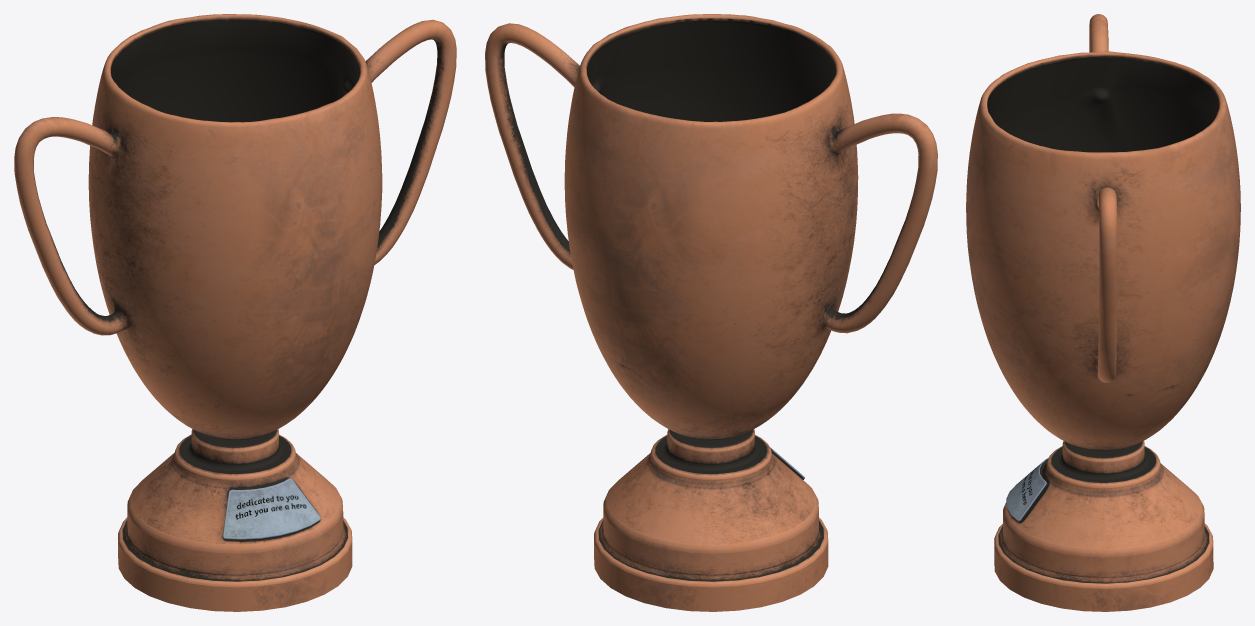
The model's file is bronce.glb.
3 renders of one model, left to right at view 1: azimuth 30°, elevation 25°; view 2: azimuth 150°, elevation 25°; view 3: azimuth 270°, elevation 25°, orthographic. The views are drawn at different scales.
Visible parts, largest first — view 1: Copa, Base, Placa; view 2: Copa, Base; view 3: Copa, Base, Placa.
Part boxes in pixels (<box>): Copa: <box>14,14,456,439</box>; Base: <box>118,429,352,611</box>; Placa: <box>223,478,320,540</box>; Copa: <box>485,14,937,440</box>; Base: <box>594,429,828,611</box>; Copa: <box>966,14,1240,451</box>; Base: <box>994,441,1213,611</box>; Placa: <box>1006,457,1048,522</box>.
Size of the model in its own units: 0.9402 by 0.9993 by 0.5371.
1 material, 1 textured.
